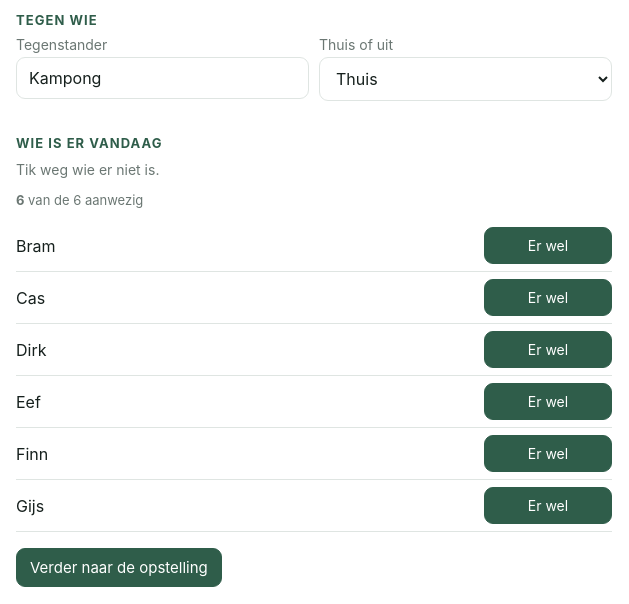
Test: het aanwezigheidsscherm › meldt iemand af en telt mee
What coordinates should you click on to do the following:
click the button "Er wel" in the row of "Cas"
I would click on:
 (548, 298)
Its box is [484,279,612,316].
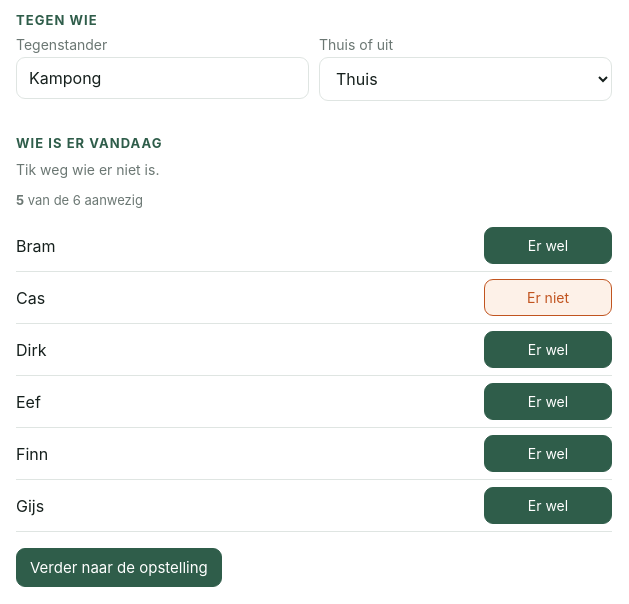
Check: the element with class "telling" shows "5", box [16,192,24,208]
